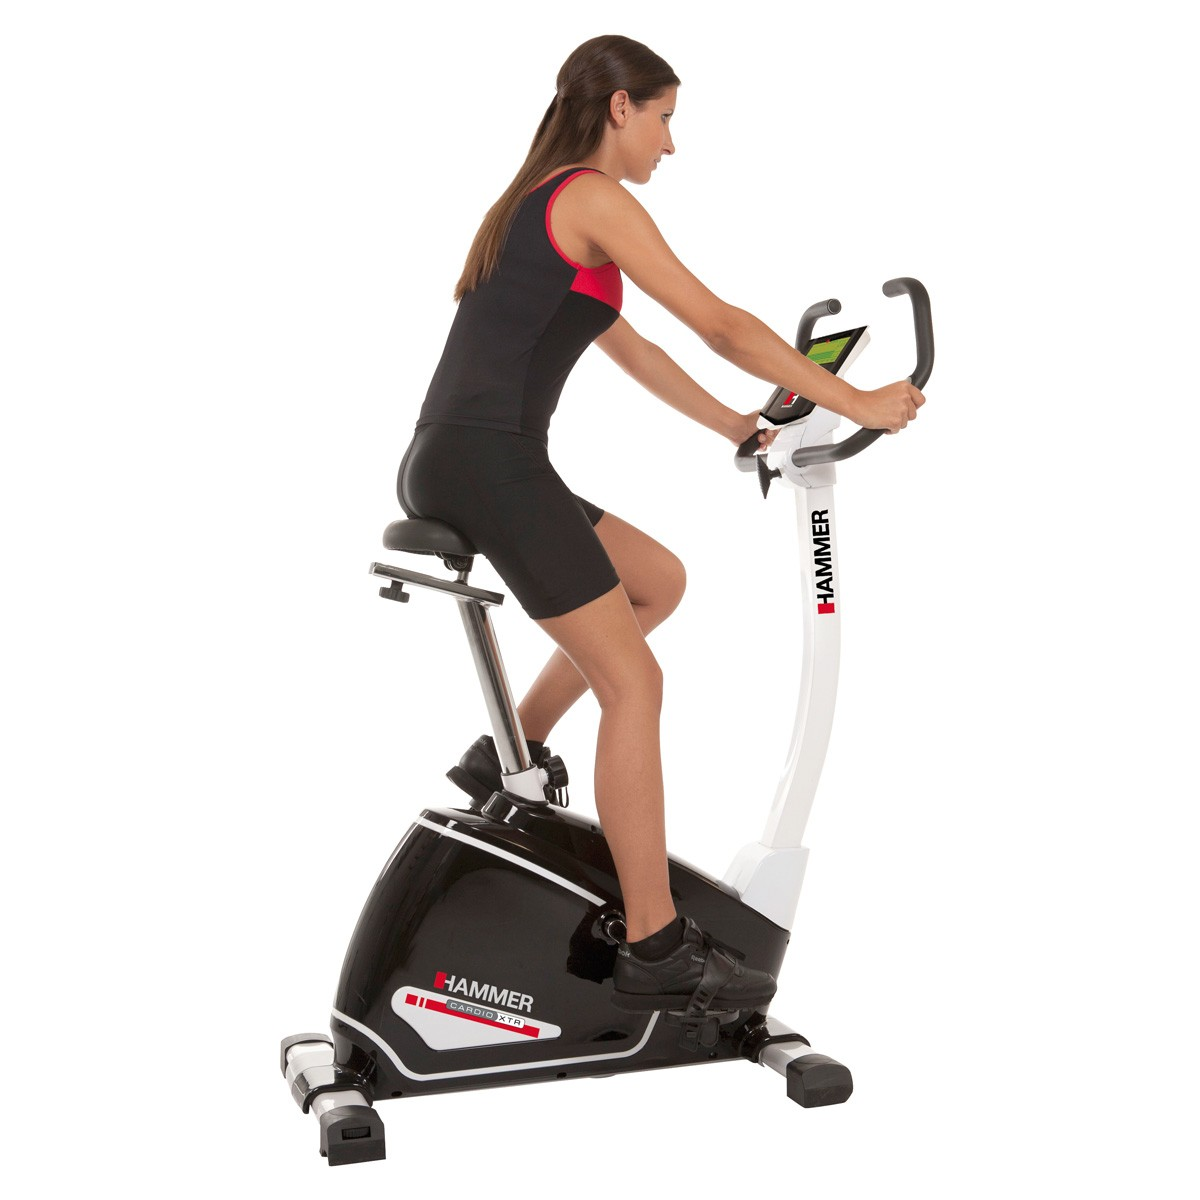gym_bike: (296, 259, 945, 1169)
